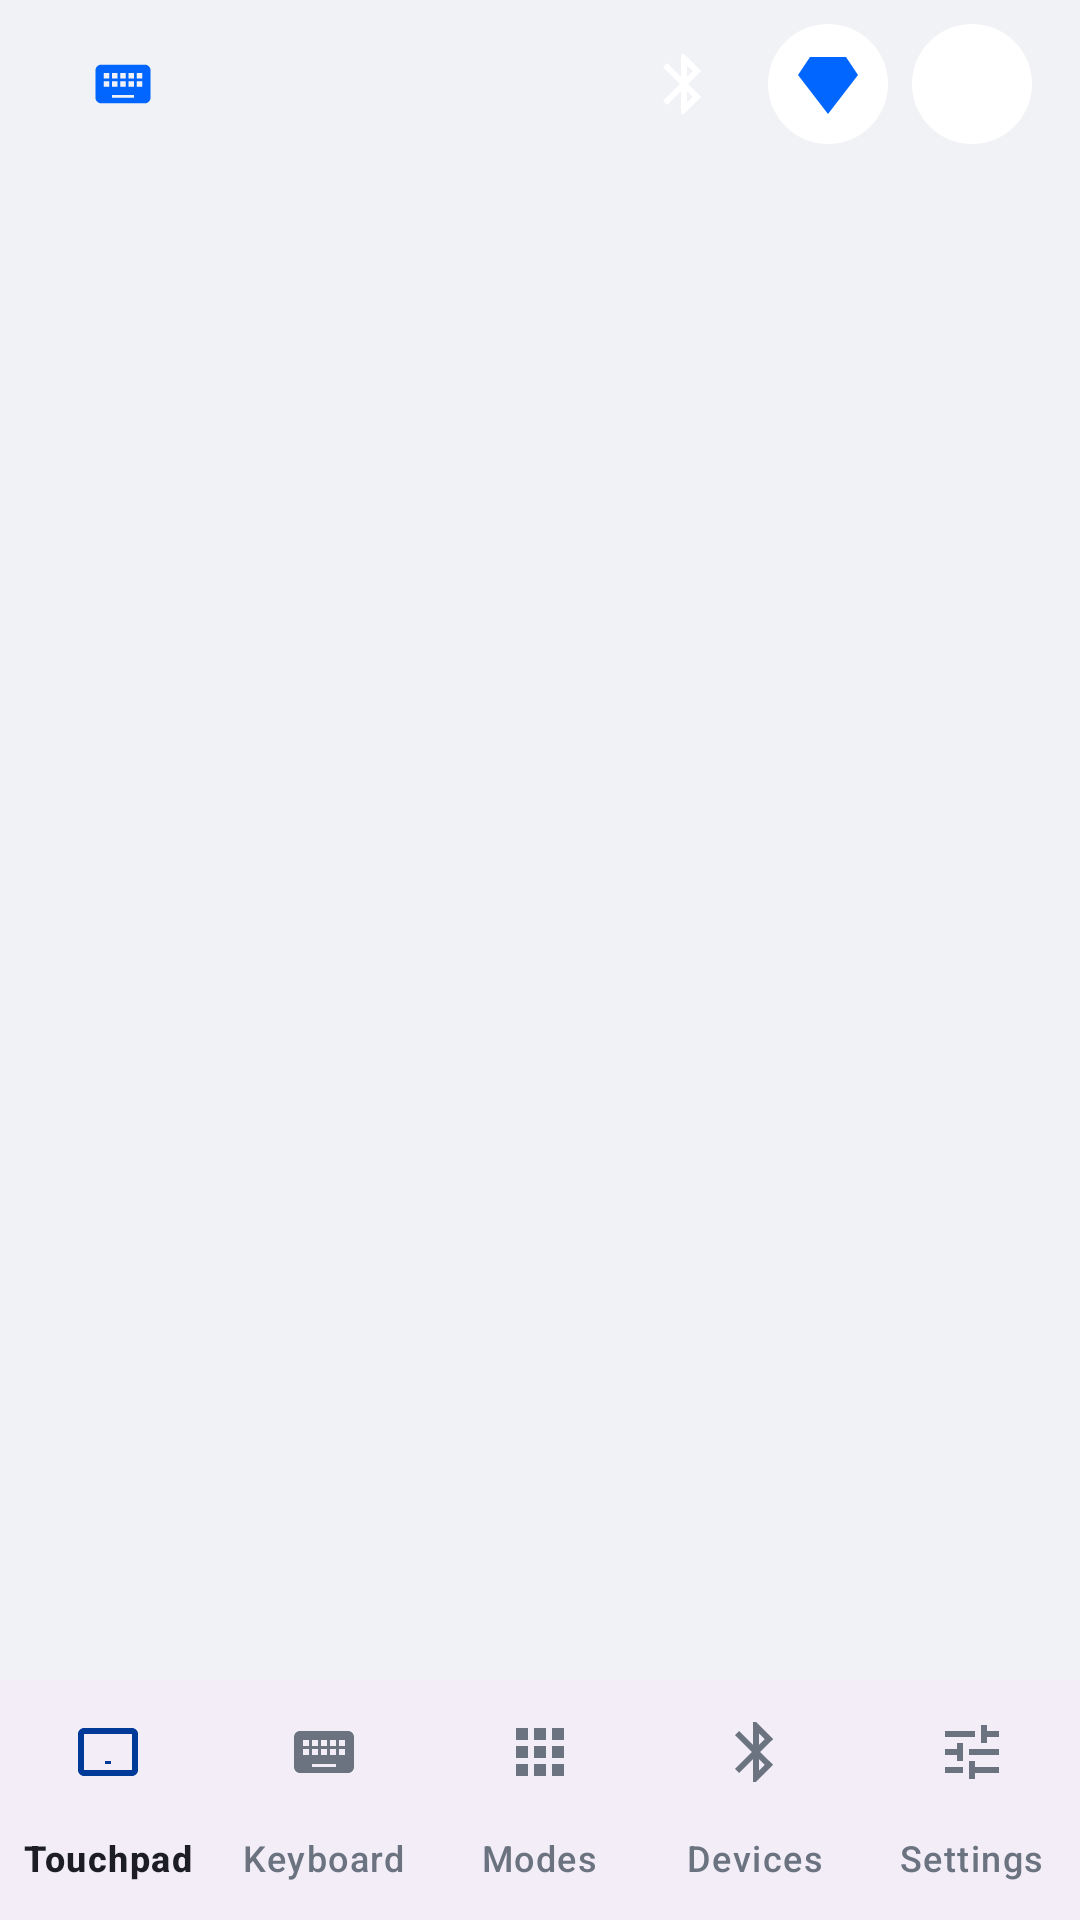

Icon click points for this 1080px x 1920px phone screenshot, format (x,y):
keyboard: (123,84)
